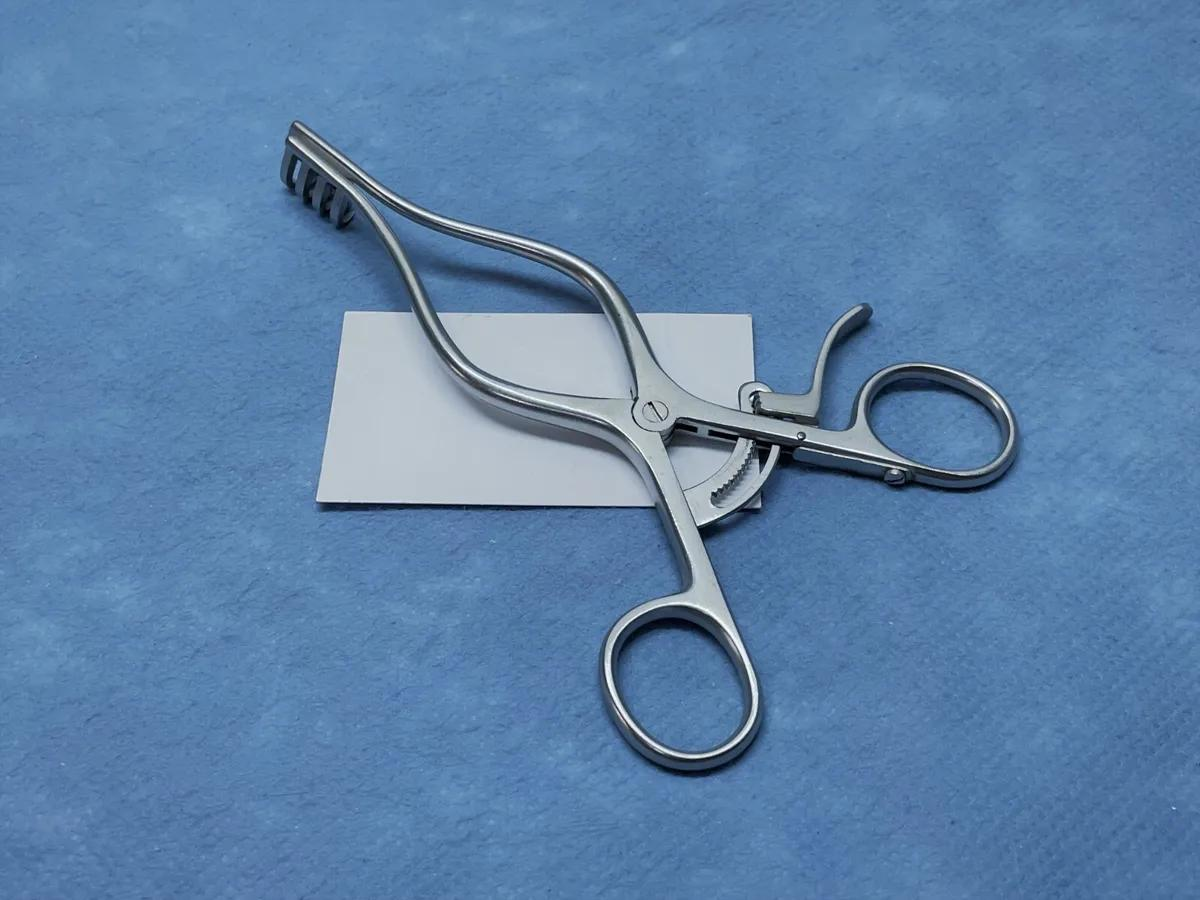Self Retractor: (266, 110, 1040, 774)
